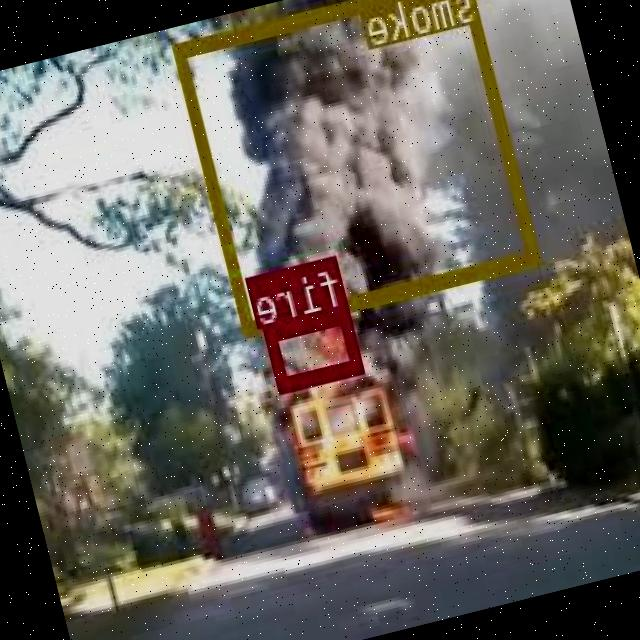fire: (265, 302, 365, 390)
smoke: (174, 0, 541, 331)
